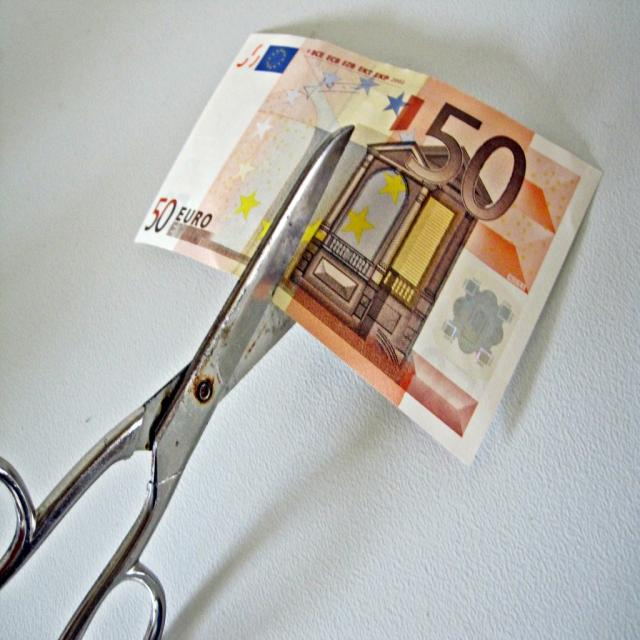scissors: (0, 122, 525, 638)
